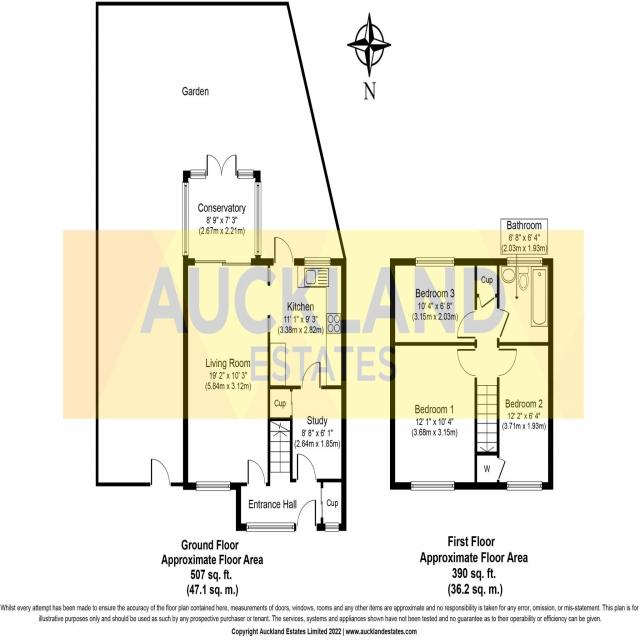DOOR: (295, 452, 317, 483), (296, 499, 317, 531), (273, 236, 295, 266), (300, 361, 322, 390), (246, 458, 267, 487), (497, 347, 517, 377), (457, 348, 477, 378), (457, 310, 477, 340), (497, 308, 510, 339)
ROOM: (183, 236, 347, 491), (390, 342, 477, 491), (474, 342, 553, 491), (390, 257, 477, 346)
SLIDING DOOR: (193, 257, 252, 266)
WINDOW: (246, 522, 295, 533), (410, 481, 455, 491), (415, 257, 455, 267), (506, 481, 542, 491), (507, 257, 543, 267), (196, 481, 231, 491), (304, 257, 331, 266), (325, 522, 340, 533), (266, 266, 272, 283), (266, 316, 271, 334)
